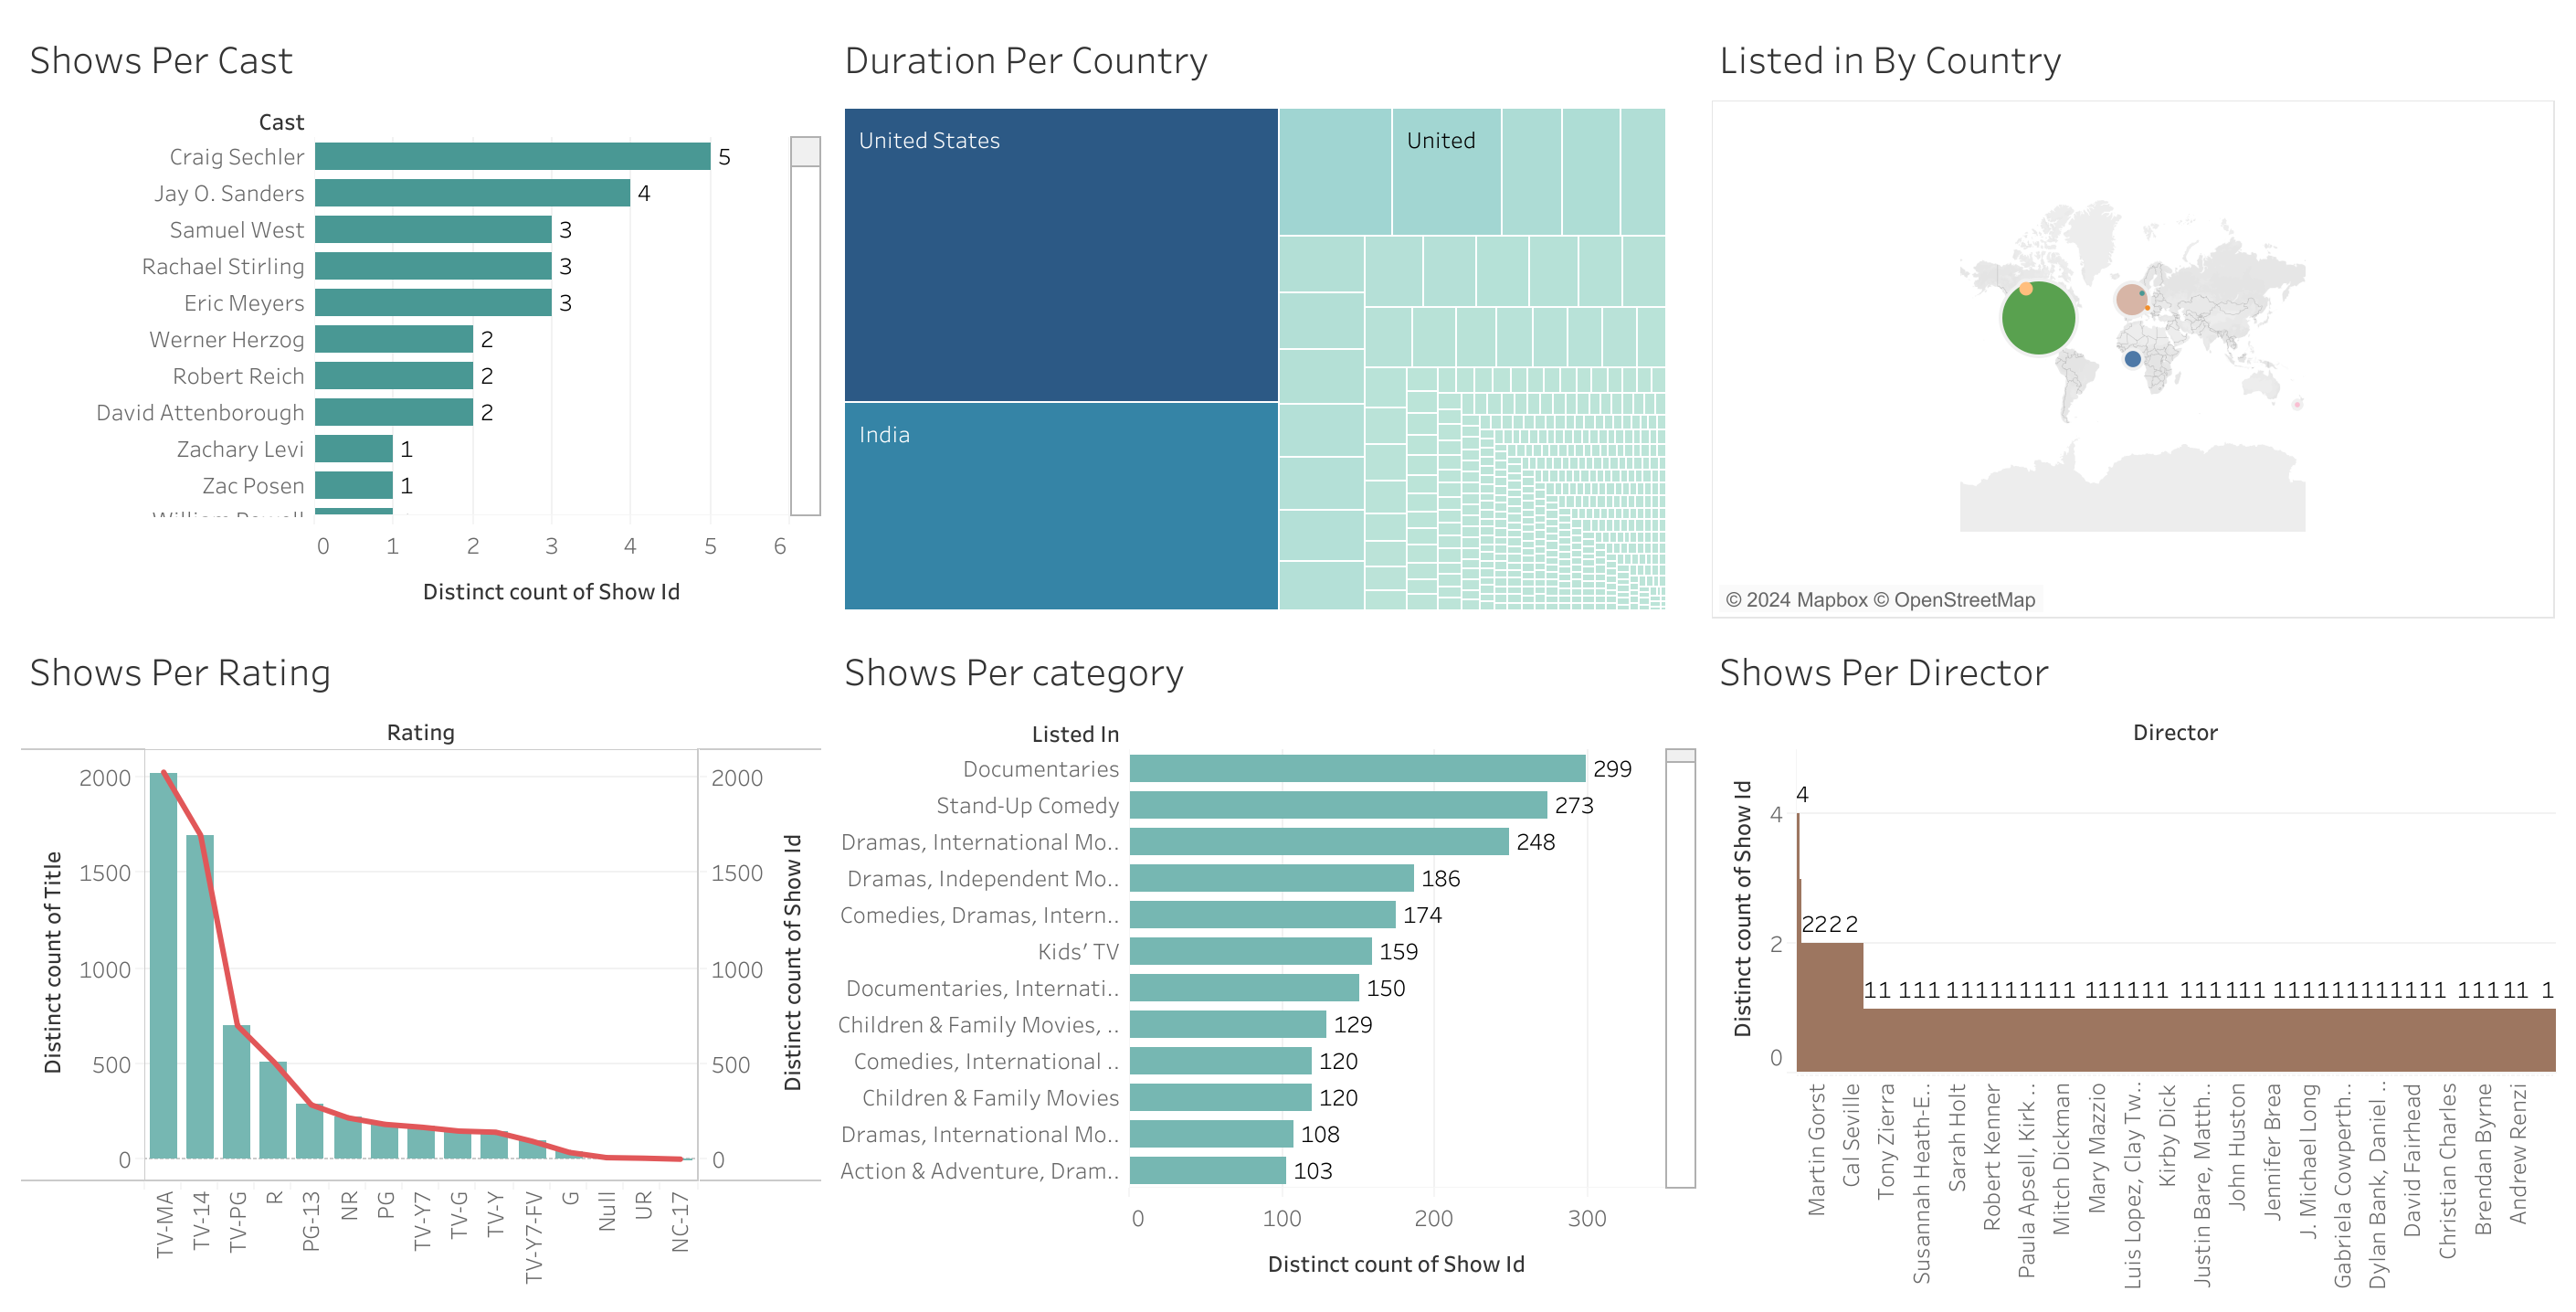

The page's visual inventory and layout, read from the dashboard file:
{"tool":"tableau","page":{"name":"Netflix-Dashboard","canvas":[1000,1000],"units":"permille","ordinal":0},"visuals":[{"type":"worksheet","title":"Shows Per Cast","mark":"Automatic","rows":["cast"],"cols":["show_id"],"box":[6.5,11.9,315.7,465.8]},{"type":"worksheet","title":"Duration Per Country","mark":"Automatic","box":[322.2,11.9,338.5,465.8]},{"type":"worksheet","title":"Listed in By Country","mark":"Automatic","box":[660.7,11.9,332.8,465.8]},{"type":"worksheet","title":"Shows Per Rating","mark":"Bar","rows":["title","show_id"],"cols":["rating"],"box":[6.5,477.7,315.8,510.4]},{"type":"worksheet","title":"Shows Per category","mark":"Automatic","rows":["listed_in"],"cols":["show_id"],"box":[322.4,477.7,338.4,510.4]},{"type":"worksheet","title":"Shows Per Director","mark":"Automatic","rows":["show_id"],"cols":["director"],"box":[660.7,477.7,332.8,510.4]}]}

Visuals, with their boxes on the dashboard's canvas, which has no fixed pixel size, in thousandths of its width and height (x1, y1, x2, y2). These are canvas units, not pixel positions in the 2576x1312 screenshot, which may show the page scaled, cropped or inside an application window:
"Shows Per Cast" worksheet: crop(6, 12, 322, 478)
"Duration Per Country" worksheet: crop(322, 12, 661, 478)
"Listed in By Country" worksheet: crop(661, 12, 994, 478)
"Shows Per Rating" worksheet (Bar marks): crop(6, 478, 322, 988)
"Shows Per category" worksheet: crop(322, 478, 661, 988)
"Shows Per Director" worksheet: crop(661, 478, 994, 988)
